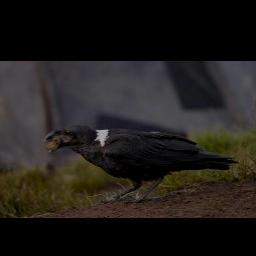Crow: (43, 122, 242, 206)
